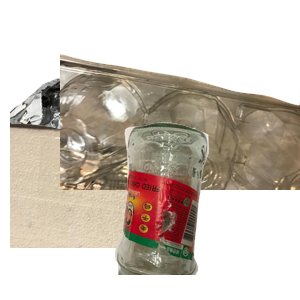glass: (112, 120, 300, 300)
metal: (10, 73, 212, 253)
plastic: (60, 52, 300, 232)
trash: (10, 120, 207, 300)
